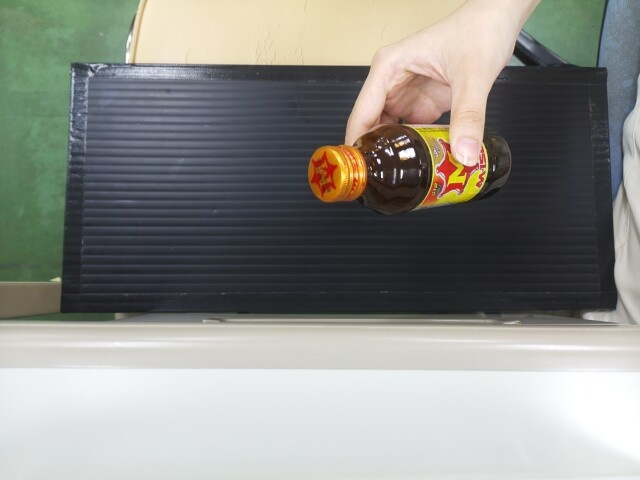glass_bottle: (304, 121, 509, 205)
